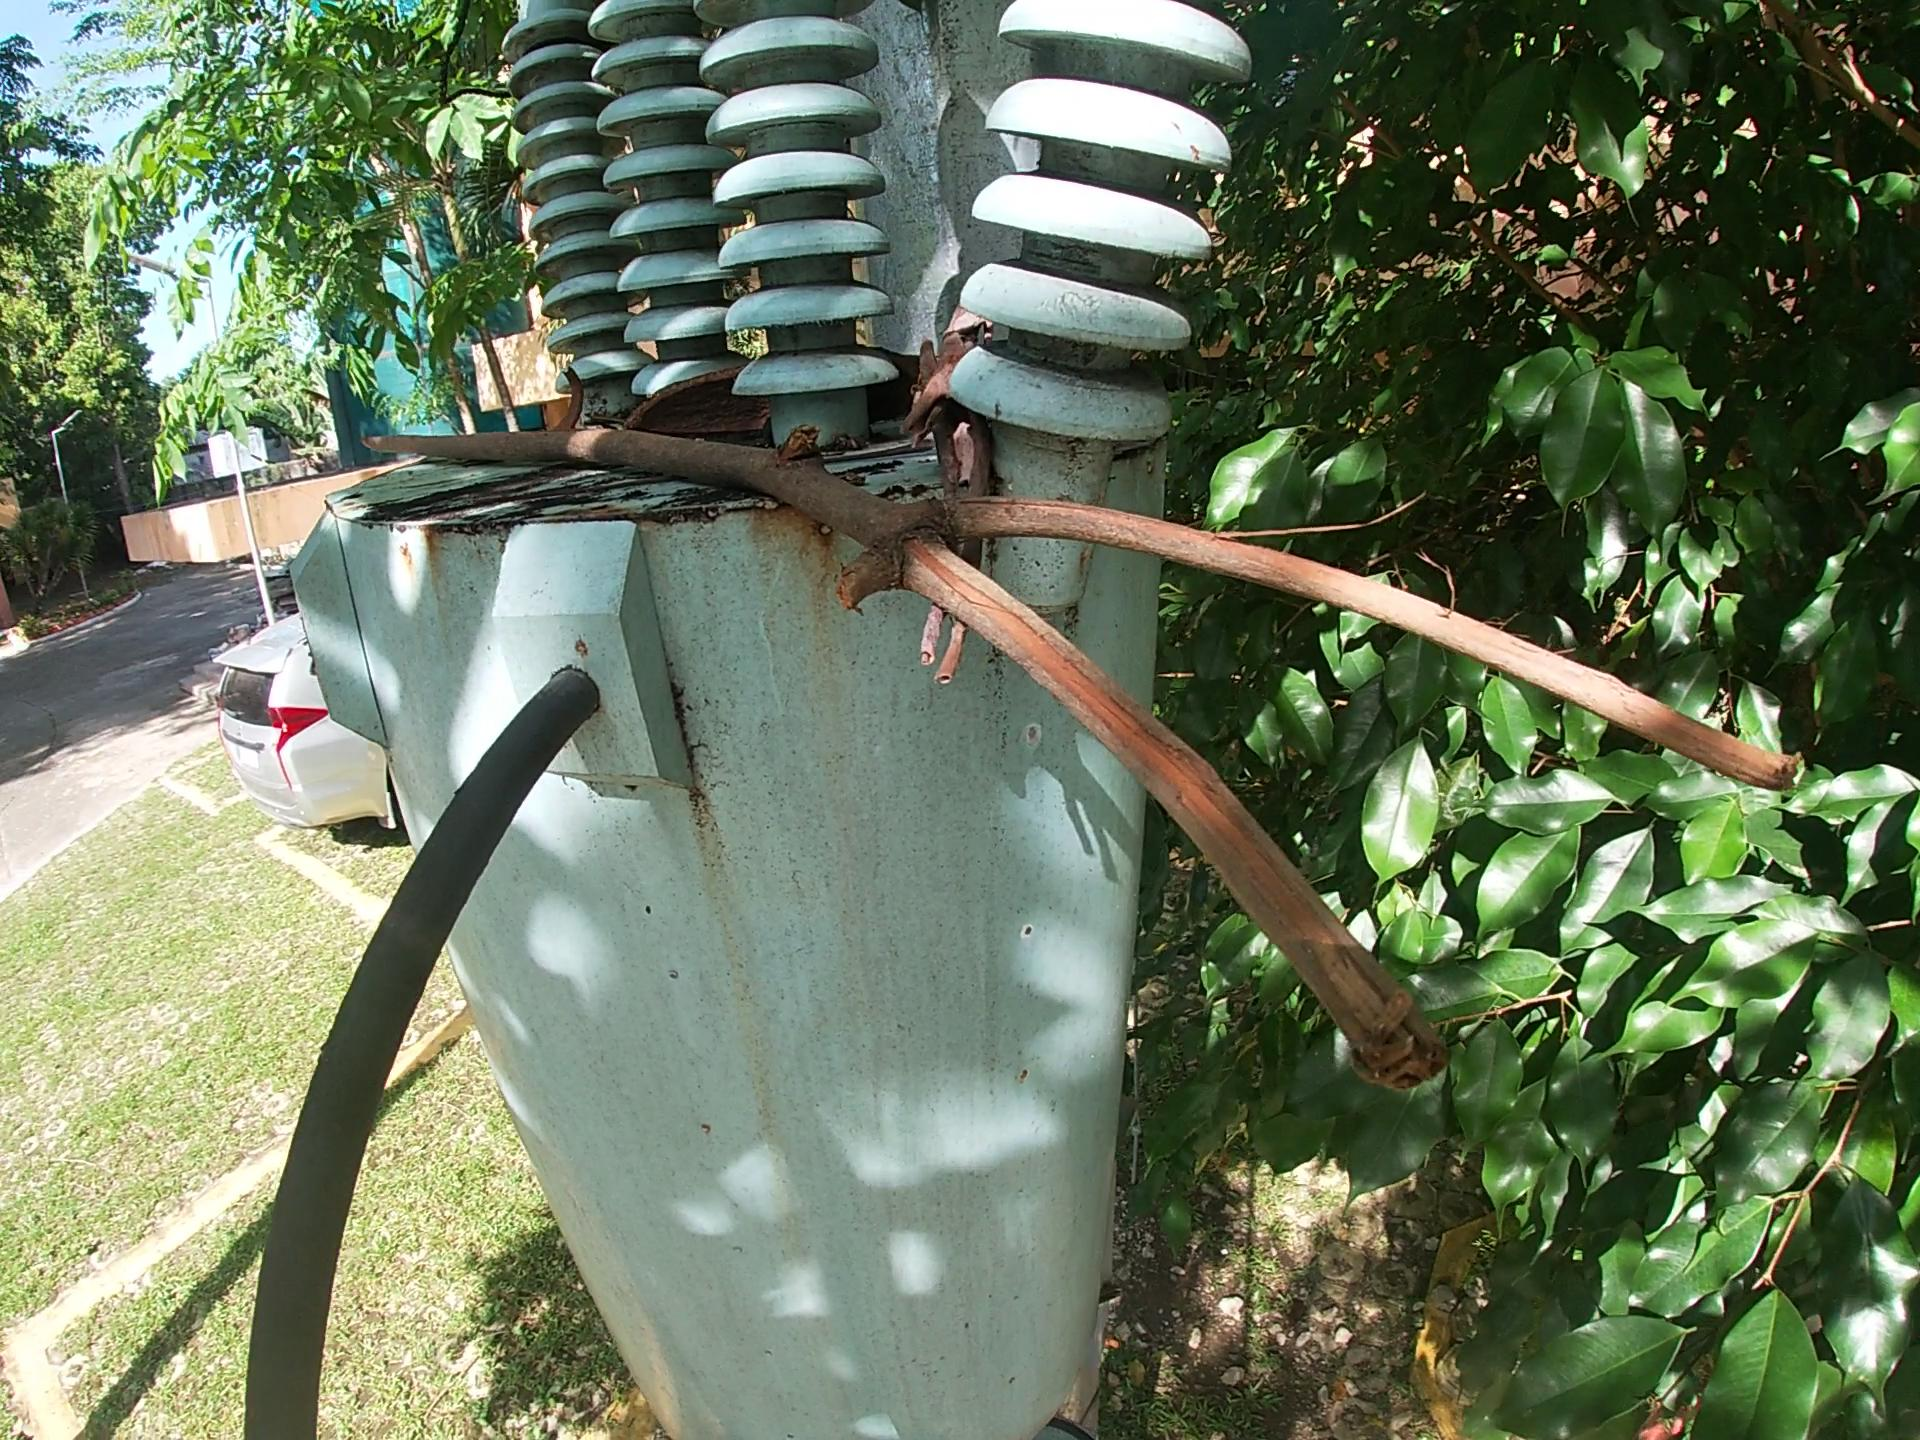mahogany fruit: (621, 340, 933, 445), (547, 358, 591, 428)
tree branch: (357, 411, 1811, 1097), (893, 303, 1020, 691)
